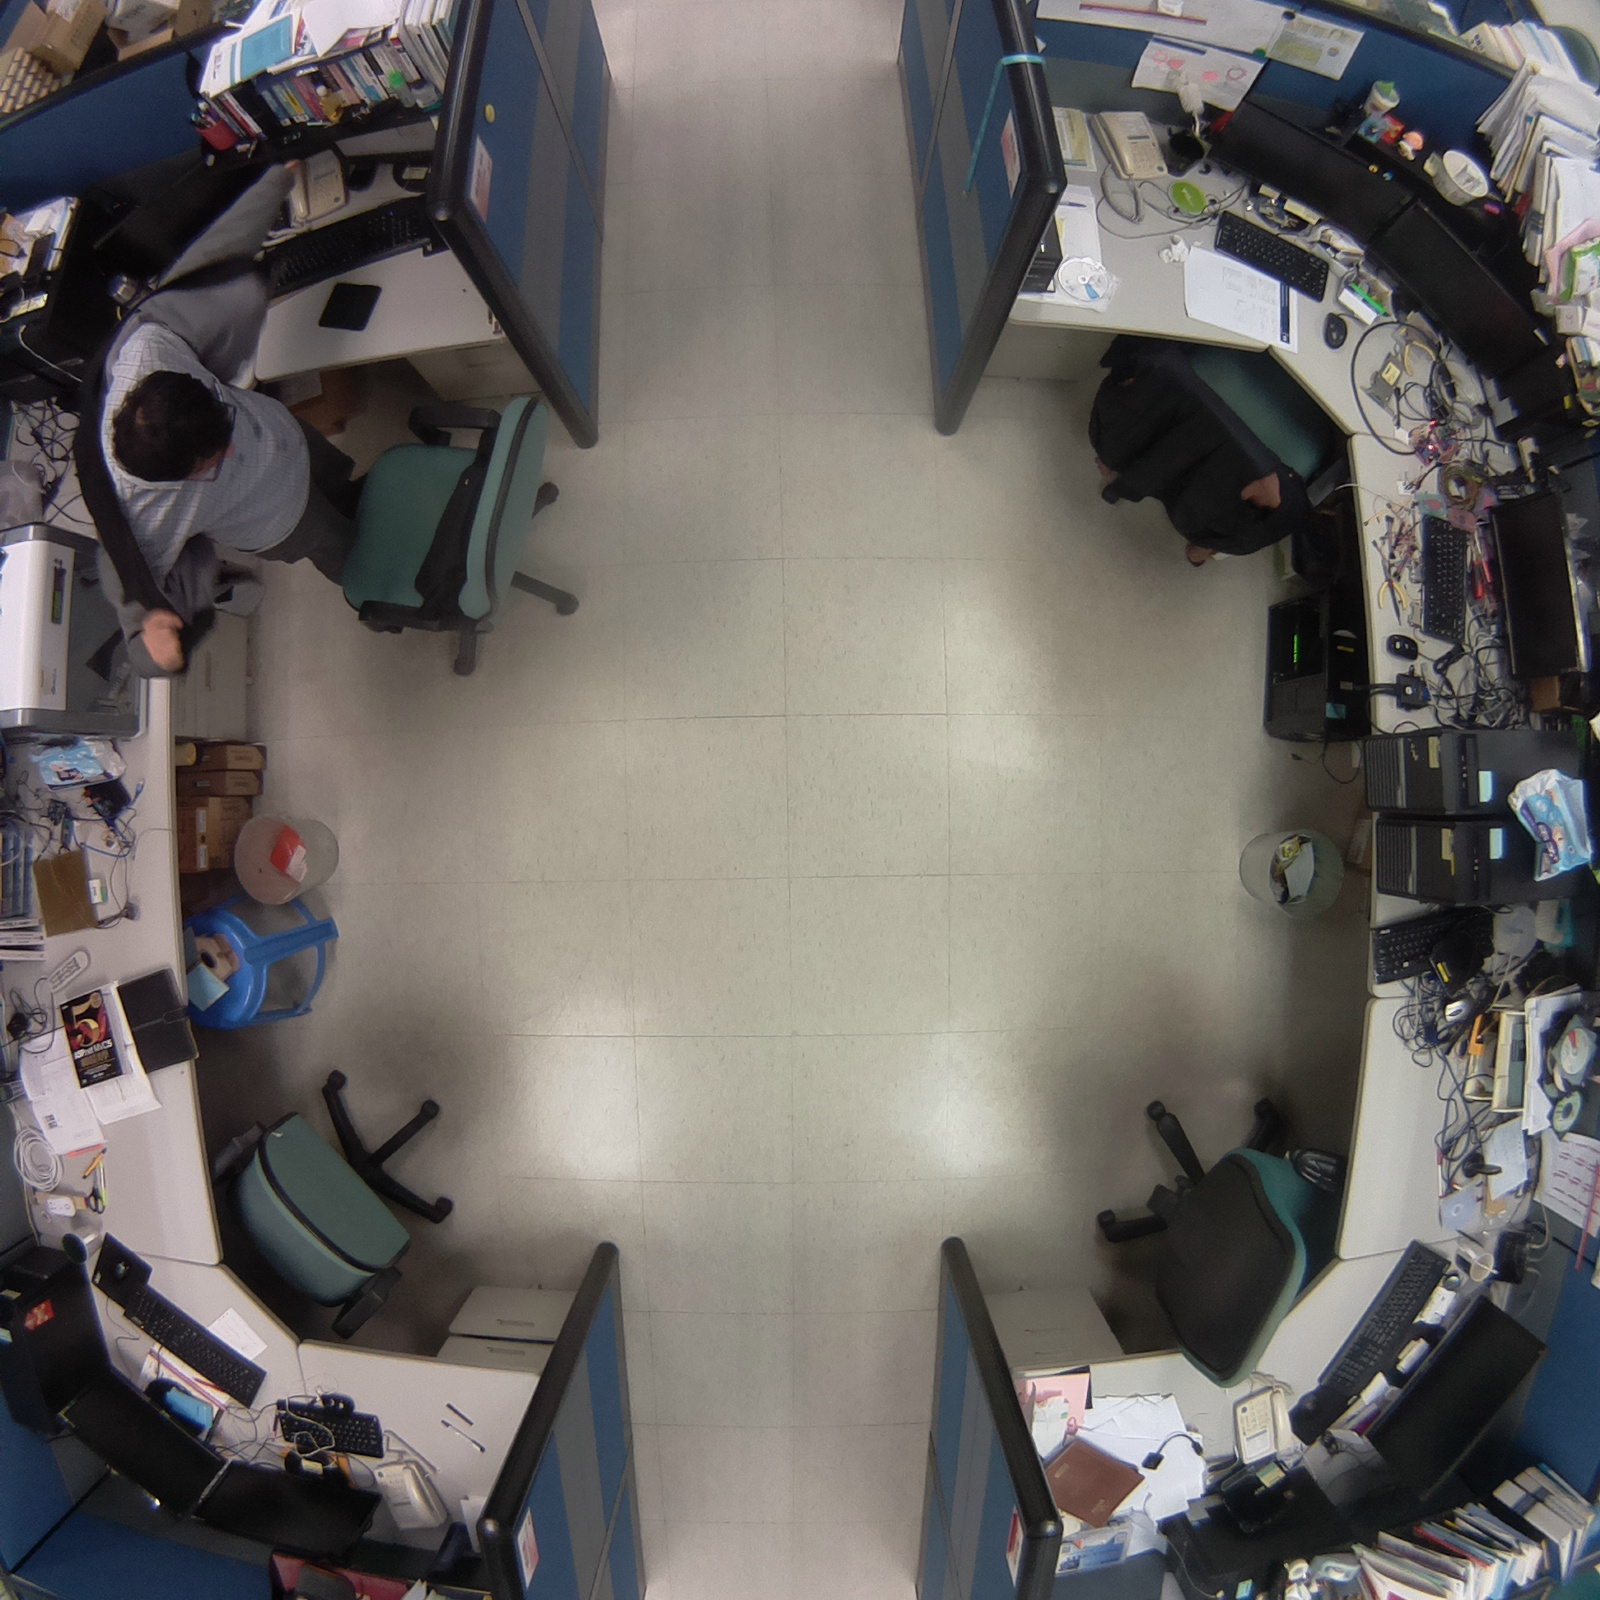chair: (319, 378, 596, 709), (1070, 1075, 1350, 1401), (196, 1058, 481, 1352), (1073, 306, 1358, 583)
head: (104, 363, 242, 491)
standing: (68, 252, 396, 686)
